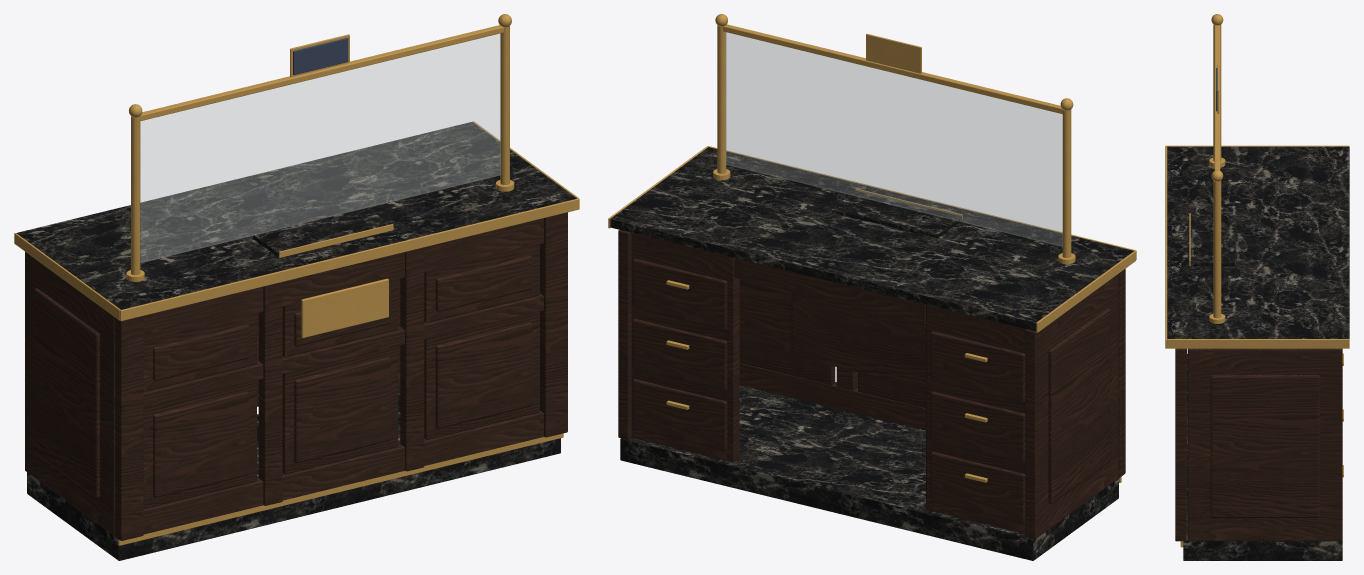
The model's file is sec_counter_6080.glb.
The picture shows the model from 3 angles, left to right: view 1: azimuth 30°, elevation 25°; view 2: azimuth 150°, elevation 25°; view 3: azimuth 270°, elevation 25°; orthographic projection. The views are drawn at different scales.
Visible parts, largest first — view 1: sec_counter_6080; view 2: sec_counter_6080; view 3: sec_counter_6080.
Boxes of the visible parts, x1,y1,x2,y2 form: sec_counter_6080: [14, 14, 579, 560]; sec_counter_6080: [608, 14, 1136, 560]; sec_counter_6080: [1165, 14, 1349, 560].
Size of the model in its own units: 2.02 by 1.89 by 0.808.
6 materials, 4 textured.
